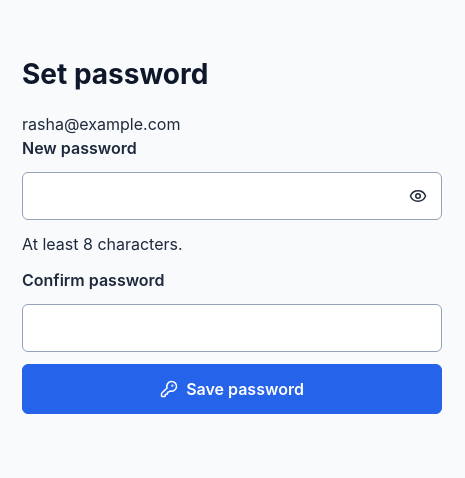
Test: password setup and recovery › keeps a failed password update open without a success message
Type "new password" into the password field labelled "New password".
click(232, 196); type("new password")  # box [22, 172, 442, 220]
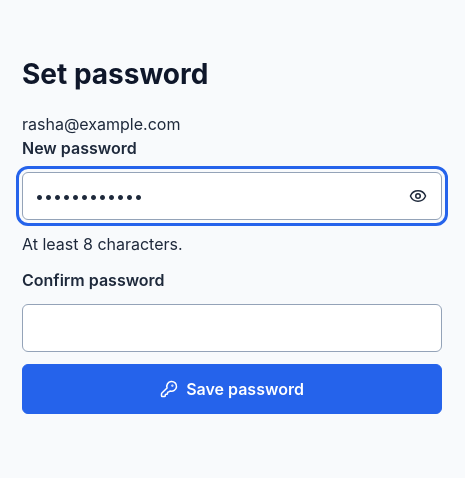
Type "new password" into the password field labelled "Confirm password".
click(232, 328); type("new password")  # box [22, 304, 442, 352]
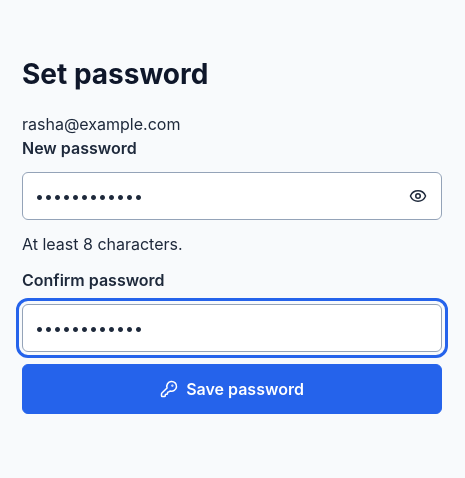
Click the button "Save password".
click(232, 388)  # box [22, 364, 442, 414]
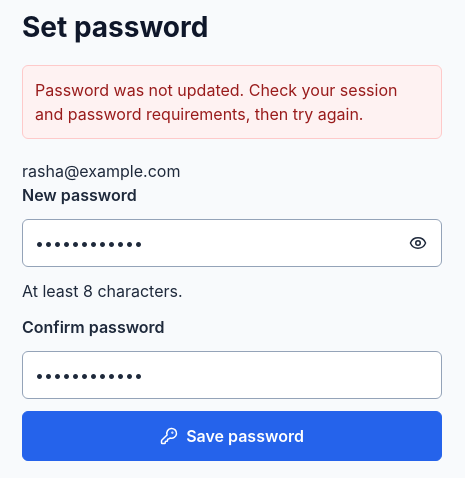
Expected: the button "Save password" is enabled, [22, 410, 442, 460]
Now the message is shown, box [22, 64, 442, 138]
